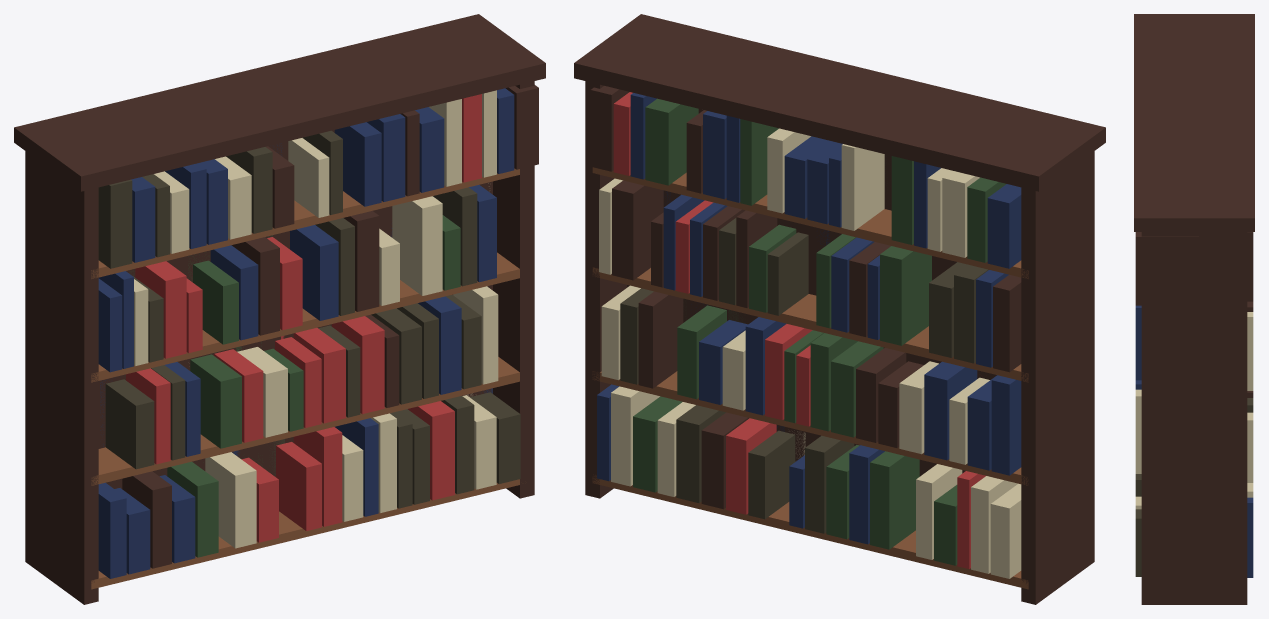
The model's file is archive_shelf.glb.
3 renders of one model, left to right at view 1: azimuth 30°, elevation 25°; view 2: azimuth 150°, elevation 25°; view 3: azimuth 270°, elevation 25°, orthographic. The views are drawn at different scales.
Parts seen in each view (by area): view 1: side; view 2: side; view 3: side.
Part boxes in pixels (x1,y1,x2,y2): side: [14, 14, 545, 604]; side: [574, 14, 1105, 604]; side: [1134, 14, 1254, 604].
Size of the model in its own units: 3.2 by 2.85 by 0.8.
